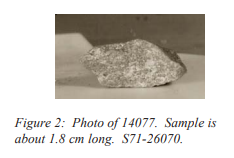Basalt: (81, 32, 189, 89)
